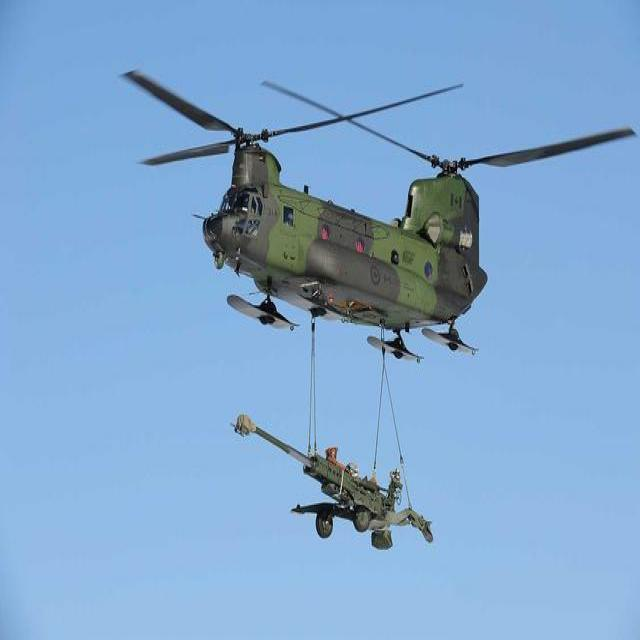MIL_HELO: (108, 51, 640, 365)
